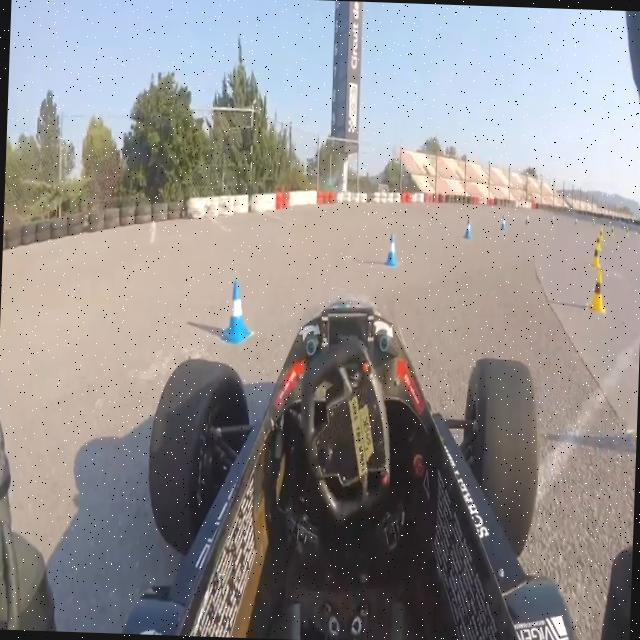blue_cone: (220, 279, 253, 348), (384, 233, 399, 268), (463, 216, 473, 238), (498, 212, 506, 232), (524, 213, 529, 226), (550, 214, 555, 224), (574, 216, 577, 226)
yellow_cone: (588, 267, 608, 313), (631, 372, 638, 458), (590, 245, 602, 269), (595, 234, 602, 250), (598, 227, 604, 244), (624, 227, 630, 238), (610, 225, 614, 239), (637, 227, 640, 239)
